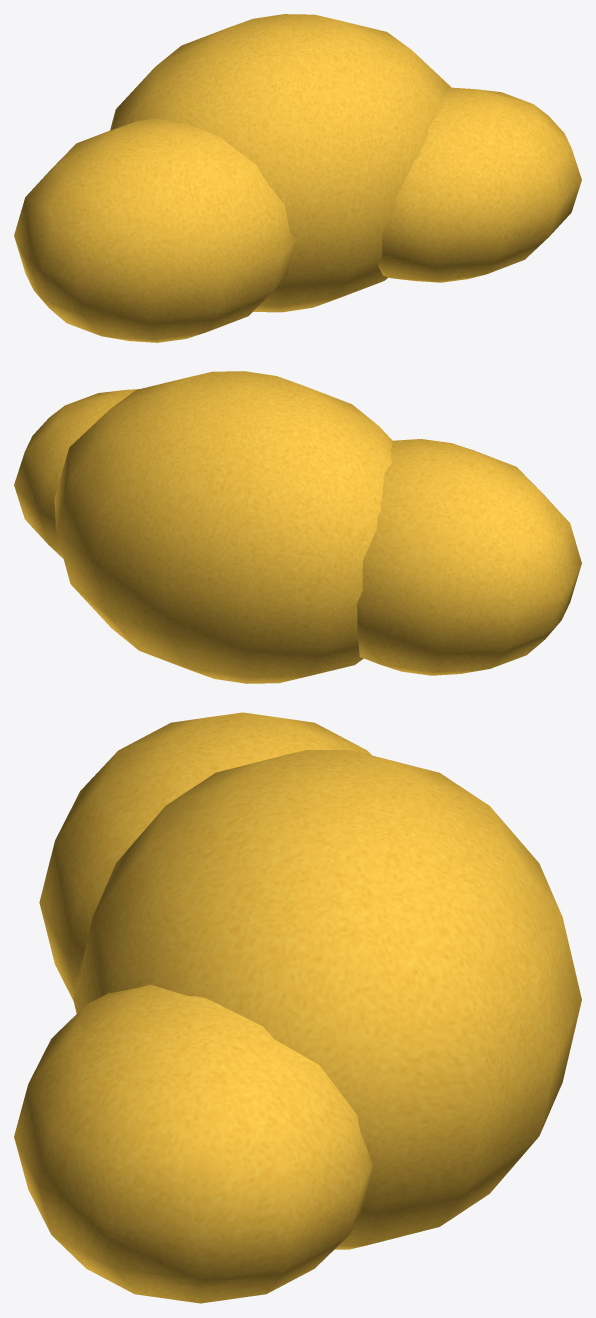
The model's file is pastel_cushion_02.glb.
The picture shows the model from 3 angles, top to bottom: view 1: azimuth 30°, elevation 25°; view 2: azimuth 150°, elevation 25°; view 3: azimuth 270°, elevation 25°; orthographic projection. The views are drawn at different scales.
Parts seen in each view (by area): view 1: pastel_cushion_02; view 2: pastel_cushion_02; view 3: pastel_cushion_02.
Part boxes in pixels (bbox=[...]): pastel_cushion_02: bbox=[14, 14, 581, 342]; pastel_cushion_02: bbox=[14, 371, 581, 683]; pastel_cushion_02: bbox=[14, 712, 581, 1303].
Bounding box in the file's own units: 0.4644 × 0.225 × 0.268.
1 material, 1 textured.
